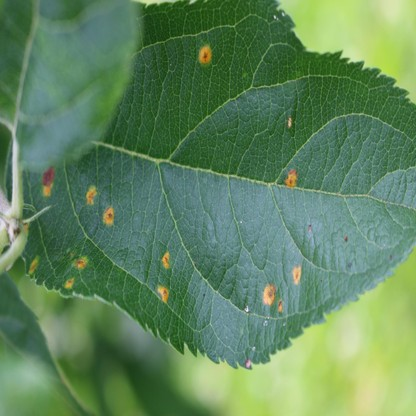frogeye: (246, 358, 251, 368)
rust: (41, 166, 53, 195), (199, 45, 212, 65), (102, 205, 114, 226), (264, 285, 276, 305), (71, 256, 89, 269), (292, 263, 302, 286), (29, 255, 41, 274), (157, 284, 169, 302), (86, 186, 97, 205), (284, 171, 297, 187), (63, 278, 74, 289), (161, 251, 169, 266), (22, 222, 29, 231), (278, 300, 281, 312), (343, 235, 348, 241), (308, 224, 311, 233), (69, 250, 72, 257)
